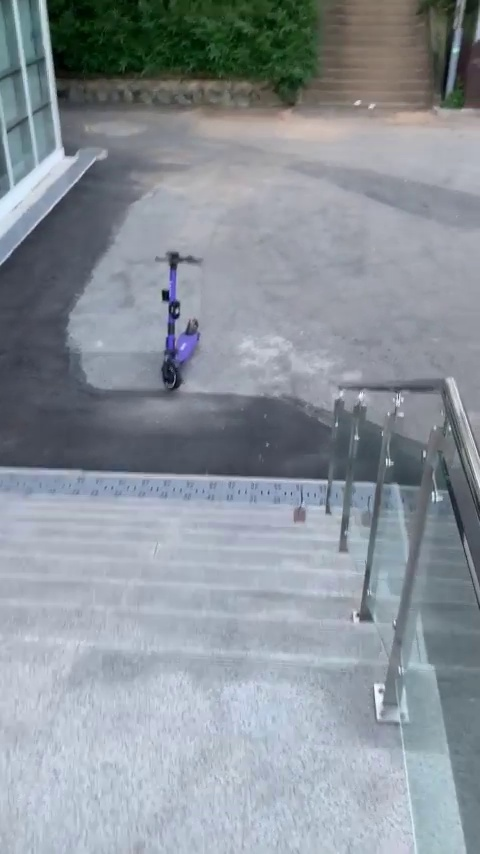beam: (140, 241, 220, 397)
